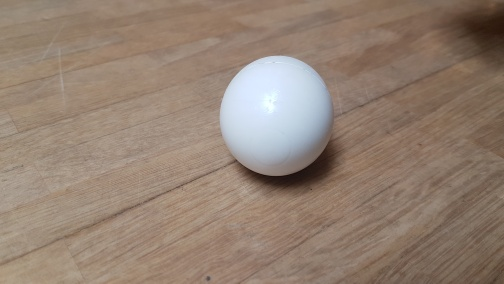egg: (217, 54, 336, 178)
